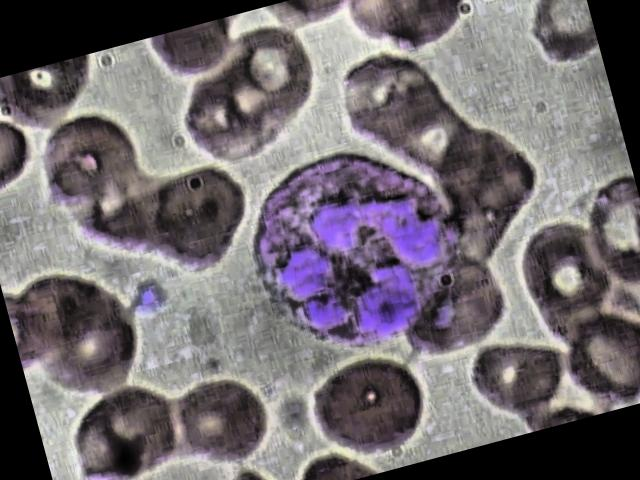Platelets: (118, 270, 174, 324)
RBC: (7, 247, 156, 413), (322, 35, 458, 168), (300, 341, 440, 470), (134, 154, 270, 286), (26, 102, 160, 234), (160, 50, 294, 182), (501, 210, 624, 336), (59, 372, 194, 480), (167, 364, 283, 480), (464, 323, 578, 433), (0, 50, 118, 145), (339, 0, 480, 71)
WBC: (224, 121, 486, 380)
